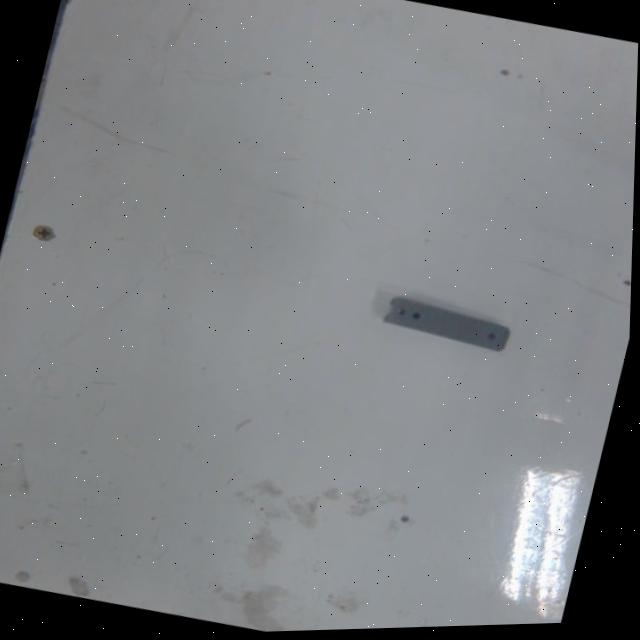grey: (377, 283, 517, 359)
head: (485, 327, 499, 341)
